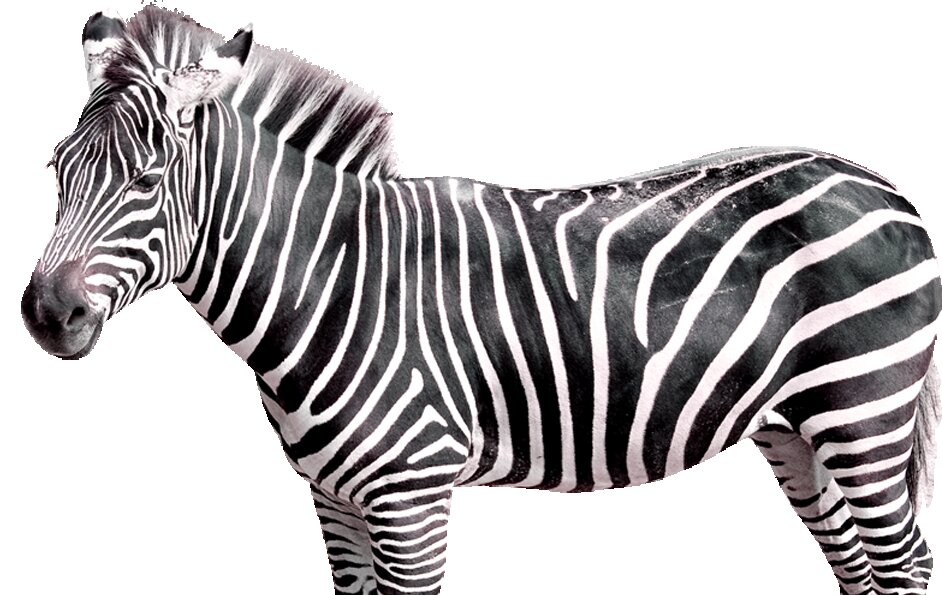Zebra: (15, 1, 942, 591)
